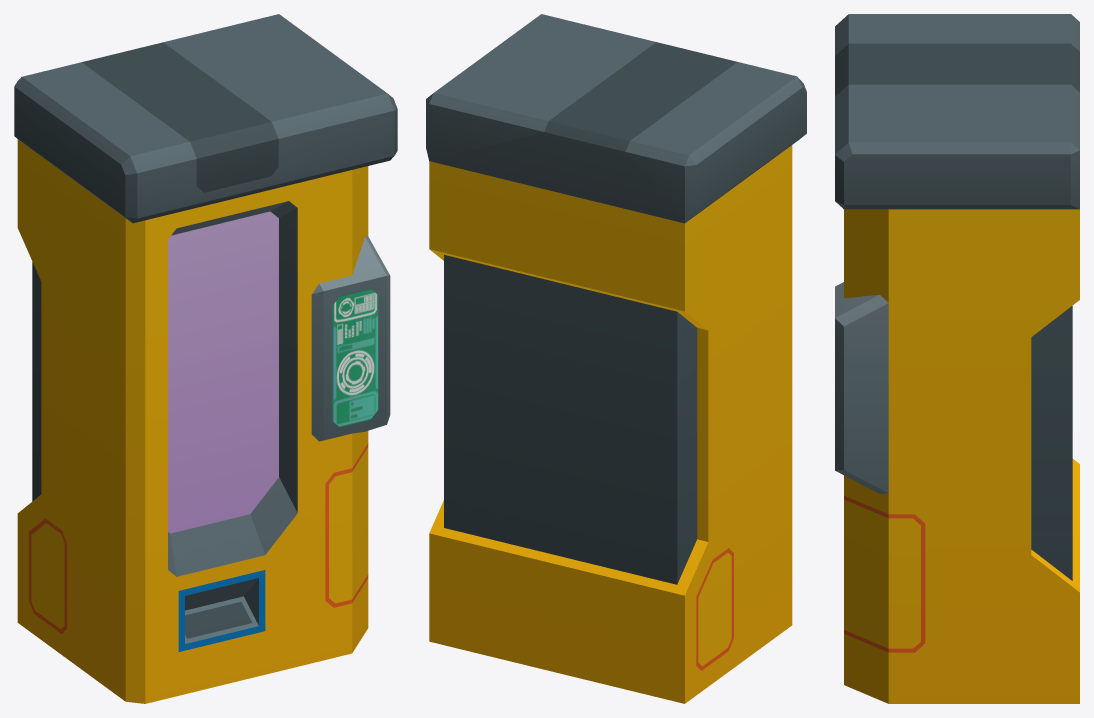
File: Vending_Machine_006.fbx
3 views of the same model, side by side, from view 1: azimuth 30°, elevation 25°; view 2: azimuth 150°, elevation 25°; view 3: azimuth 270°, elevation 25° (orthographic). The views are drawn at different scales.
Parts seen in each view (by area): view 1: Vending_Machine_006; view 2: Vending_Machine_006; view 3: Vending_Machine_006.
Boxes of the visible parts, box(x1,y1,x2,y2) form: Vending_Machine_006: box(14, 14, 397, 703); Vending_Machine_006: box(426, 14, 806, 703); Vending_Machine_006: box(835, 14, 1079, 703).
Size of the model in its own units: 109 by 83 by 210.
